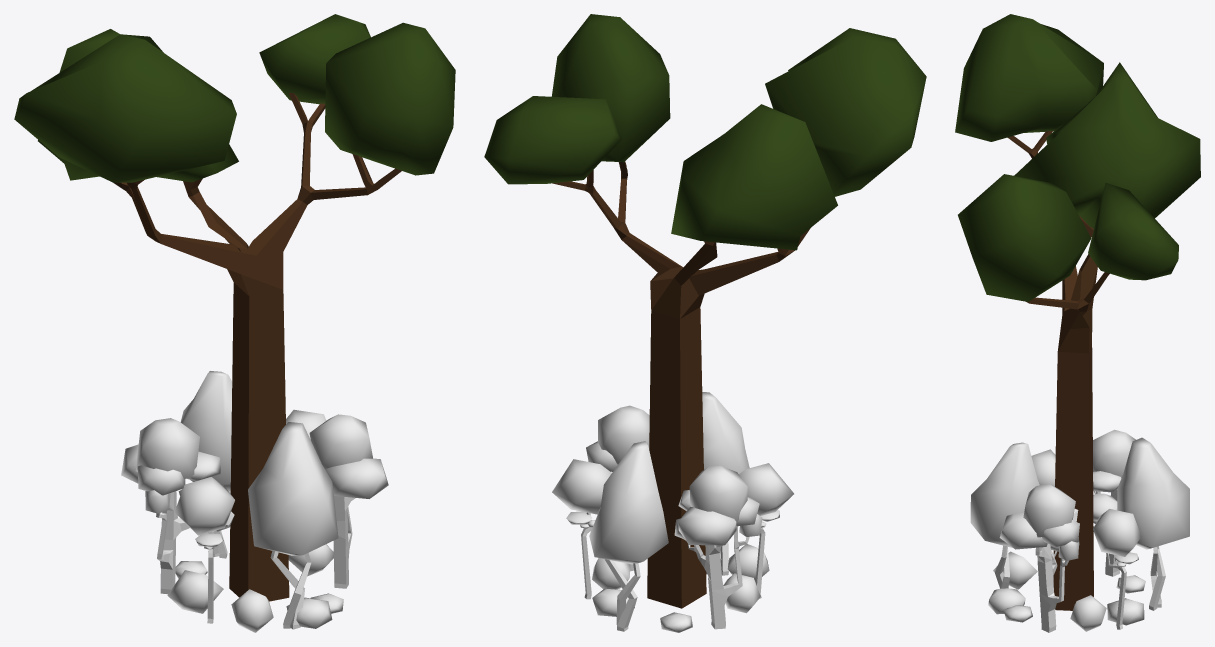
The model's file is icone-fase-2.fbx.
The picture shows the model from 3 angles, left to right: view 1: azimuth 30°, elevation 25°; view 2: azimuth 150°, elevation 25°; view 3: azimuth 270°, elevation 25°; orthographic projection. The views are drawn at different scales.
Visible parts, largest first — view 1: Crown.004, Trunk.004, Icosphere.014, Icosphere.127, Icosphere.125, Icosphere.064, Icosphere.143, Icosphere.026, Cube.040, Cube.102, Icosphere.148, Icosphere.007 (+4 smaller); view 2: Crown.004, Trunk.004, Icosphere.127, Icosphere.014, Icosphere.125, Icosphere.015, Icosphere.064, Cube.040, Icosphere.119, Icosphere.143, Icosphere.148, Icosphere.007 (+3 smaller); view 3: Crown.004, Trunk.004, Icosphere.127, Icosphere.014, Icosphere.064, Icosphere.015, Cube.102, Icosphere.125, Icosphere.026, Icosphere.081, Icosphere.007, Icosphere.025 (+8 smaller).
Part boxes in pixels (box(x1,y1,x2,y2)): Crown.004: box(14, 14, 455, 182); Trunk.004: box(113, 93, 401, 601); Icosphere.014: box(248, 422, 338, 555); Icosphere.127: box(180, 371, 232, 491); Icosphere.125: box(135, 418, 199, 478); Icosphere.064: box(309, 414, 372, 468); Icosphere.143: box(174, 477, 234, 535); Icosphere.026: box(325, 458, 388, 498); Cube.040: box(156, 491, 189, 594); Cube.102: box(333, 496, 355, 588); Icosphere.148: box(167, 570, 223, 613); Icosphere.007: box(231, 589, 273, 632); Crown.004: box(484, 14, 926, 250); Trunk.004: box(552, 161, 810, 608); Icosphere.127: box(589, 441, 668, 564); Icosphere.014: box(702, 392, 749, 473); Icosphere.125: box(689, 466, 747, 522); Icosphere.015: box(552, 459, 611, 514); Icosphere.064: box(597, 405, 649, 464); Cube.040: box(687, 526, 749, 629); Icosphere.119: box(678, 507, 736, 545); Icosphere.143: box(739, 463, 793, 515); Icosphere.148: box(723, 573, 760, 613); Icosphere.007: box(727, 544, 769, 581); Crown.004: box(955, 14, 1200, 301); Trunk.004: box(1007, 131, 1109, 610); Icosphere.127: box(1117, 437, 1189, 549); Icosphere.014: box(970, 442, 1039, 548); Icosphere.064: box(1023, 484, 1075, 537); Icosphere.015: box(1093, 509, 1141, 556); Cube.102: box(1035, 543, 1068, 632); Icosphere.125: box(1093, 429, 1135, 477); Icosphere.026: box(999, 512, 1047, 549); Icosphere.081: box(1070, 595, 1106, 631); Icosphere.007: box(993, 551, 1037, 589); Icosphere.025: box(1107, 598, 1144, 625).
Bounding box in the file's own units: 532 × 769 × 330.
